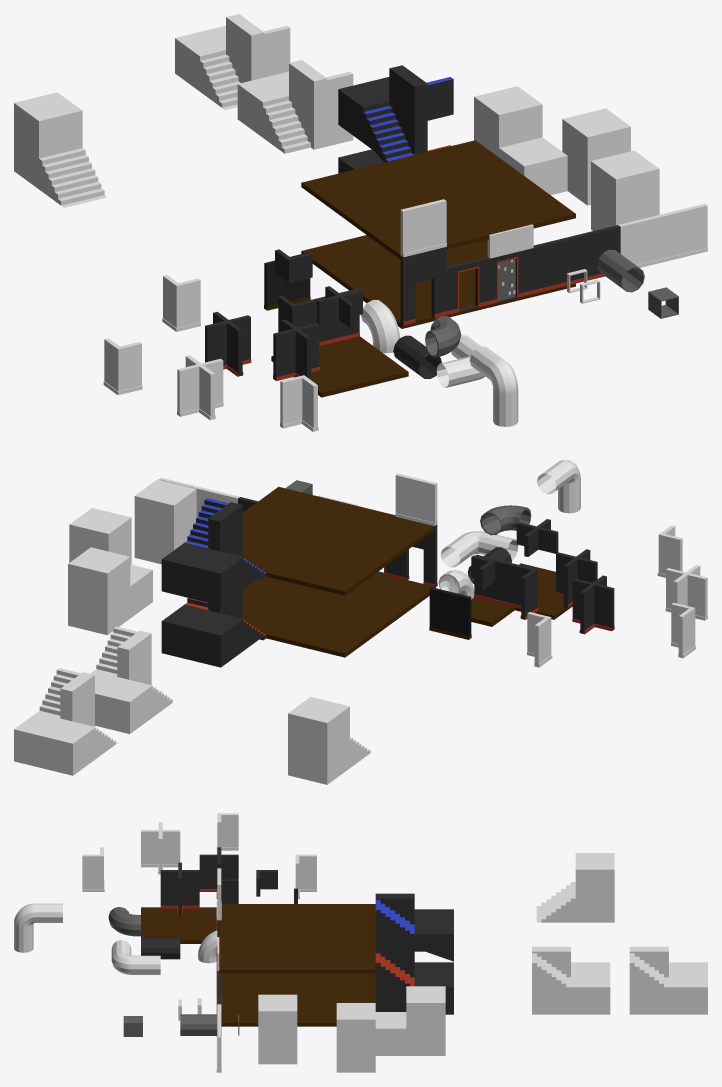
File: UpperWall_Curved.fbx
3 views of the same model, one above another, from view 1: azimuth 30°, elevation 25°; view 2: azimuth 150°, elevation 25°; view 3: azimuth 270°, elevation 25° (orthographic). The views are drawn at different scales.
Parts seen in each view (by area): view 1: Cube.005, MainStairs.005, MainStairs.007, MainStairs.004, MainStairs.006, Cube.004, MainStairs.003, MainStairs, MainStairs.002, Cube.003, SlidingDoorWallSeg, fourCorners.001 (+27 smaller); view 2: Cube.005, Cube.004, MainStairs.007, MainStairs.006, MainStairs.003, MainStairs.005, MainStairs.004, MainStairs.001, MainStairs, MainStairs.002, fourCorners, BasicWall.001 (+17 smaller); view 3: Cube.005, Cube.004, MainStairs.006, MainStairs.005, MainStairs.007, MainStairs.003, MainStairs.004, MainStairs.001, MainStairs, MainStairs.002, Cube.003, fourCorners.001 (+15 smaller).
Boxes of the visible parts, x1,y1,x2,y2 form: Cube.005: [301, 140, 575, 259]; MainStairs.005: [237, 60, 353, 153]; MainStairs.007: [338, 65, 453, 162]; MainStairs.004: [14, 92, 106, 207]; MainStairs.006: [175, 14, 290, 109]; Cube.004: [301, 235, 575, 328]; MainStairs.003: [474, 86, 567, 195]; MainStairs: [591, 150, 659, 230]; MainStairs.002: [562, 108, 630, 205]; Cube.003: [271, 336, 408, 397]; SlidingDoorWallSeg: [490, 235, 577, 304]; fourCorners.001: [177, 355, 223, 420]; Cube.005: [242, 486, 435, 595]; Cube.004: [242, 573, 435, 657]; MainStairs.007: [161, 498, 266, 605]; MainStairs.006: [14, 668, 118, 775]; MainStairs.003: [68, 547, 152, 635]; MainStairs.005: [90, 626, 172, 733]; MainStairs.004: [288, 697, 371, 784]; MainStairs.001: [161, 590, 266, 667]; MainStairs: [134, 479, 196, 564]; MainStairs.002: [69, 508, 131, 564]; fourCorners: [572, 575, 614, 634]; BasicWall.001: [429, 587, 471, 639]; Cube.005: [219, 904, 375, 973]; Cube.004: [221, 973, 375, 1026]; MainStairs.006: [629, 946, 707, 1014]; MainStairs.005: [532, 946, 610, 1014]; MainStairs.007: [375, 893, 453, 961]; MainStairs.003: [375, 986, 445, 1055]; MainStairs.004: [536, 853, 614, 922]; MainStairs.001: [375, 951, 453, 1014]; MainStairs: [258, 994, 297, 1064]; MainStairs.002: [336, 1003, 375, 1072]; Cube.003: [141, 907, 216, 943]; fourCorners.001: [141, 822, 180, 874].
Size of the model in its own units: 2713 by 657 by 3550.
